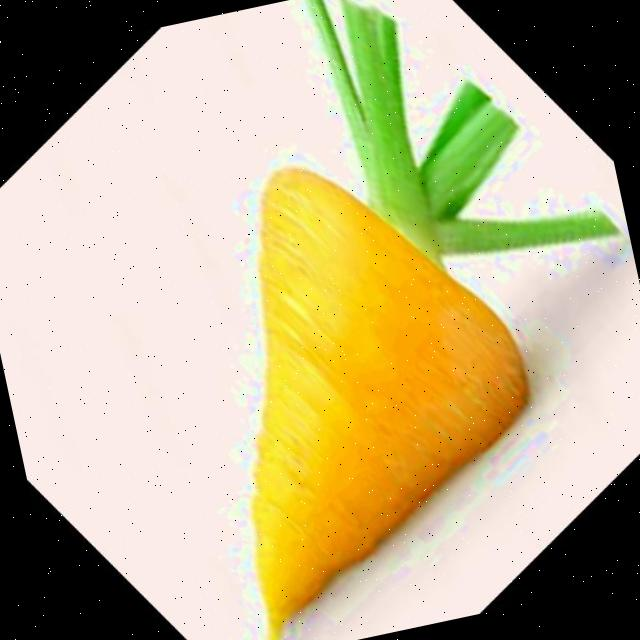carrot: (251, 0, 618, 640)
